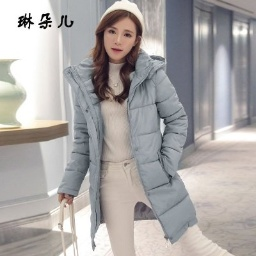face: (89, 7, 143, 80)
